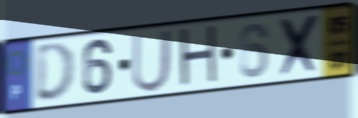6: (81, 37, 114, 99), (238, 21, 272, 80)
D: (33, 40, 78, 105)
H: (177, 22, 220, 92)
U: (130, 27, 175, 95)
X: (278, 12, 322, 80)
